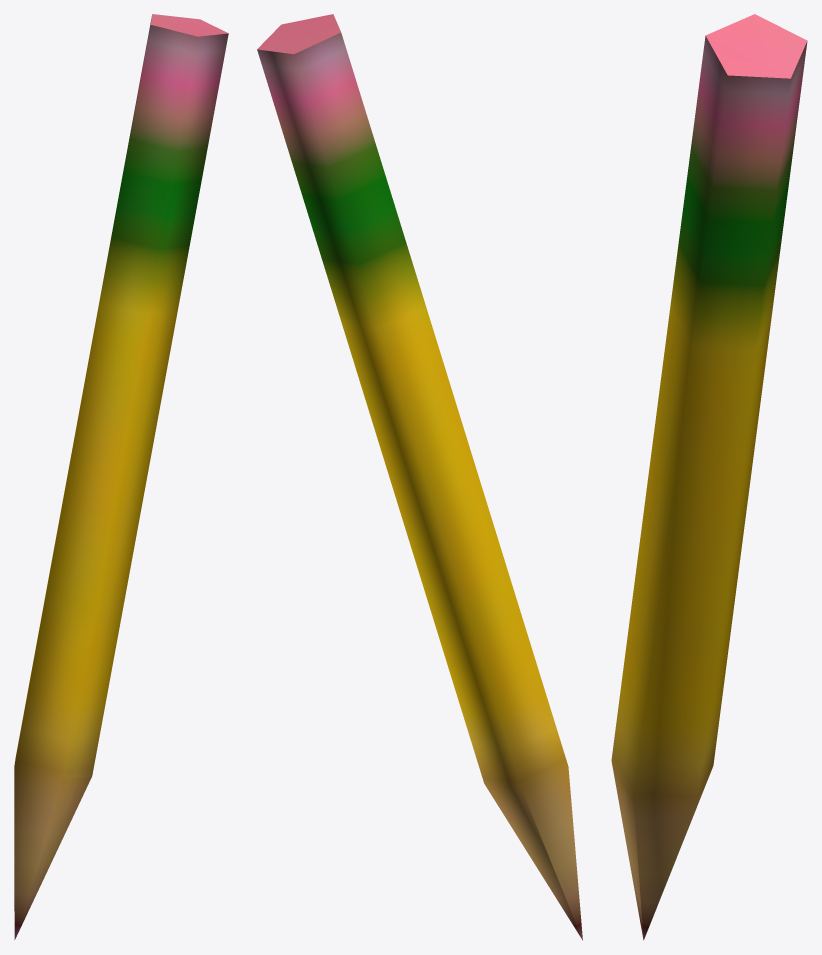
File: pencil.glb
3 views of the same model, side by side, from view 1: azimuth 30°, elevation 25°; view 2: azimuth 150°, elevation 25°; view 3: azimuth 270°, elevation 25° (orthographic). The views are drawn at different scales.
Visible parts, largest first — view 1: pencil; view 2: pencil; view 3: pencil.
Part boxes in pixels (<box>): pencil: <box>14,14,228,939</box>; pencil: <box>257,14,582,940</box>; pencil: <box>611,14,807,940</box>.
Size of the model in its own units: 0.4476 by 1.45 by 0.2479.
2 materials, 2 textured.
